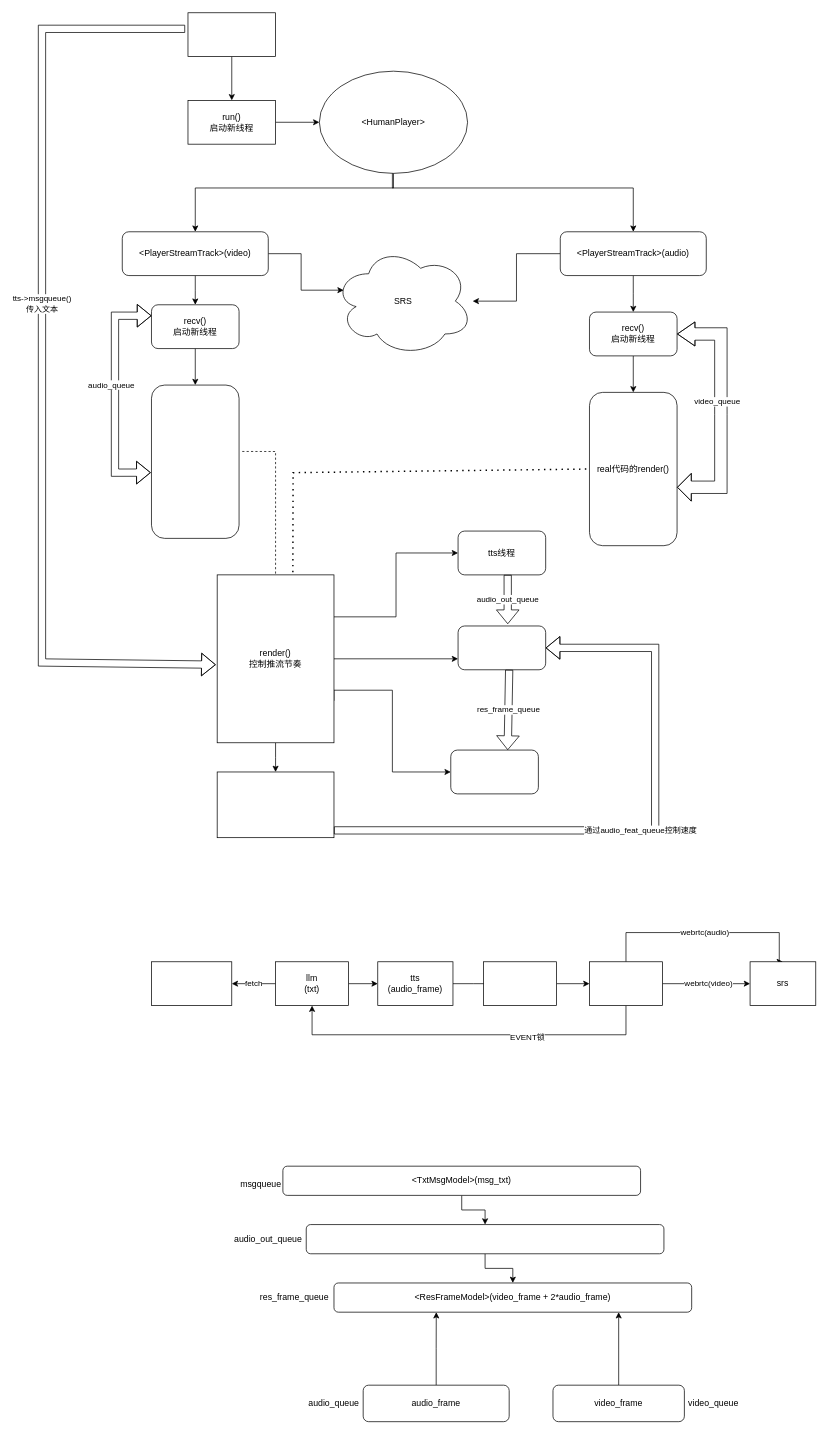
The diagram is 829 pixels wide and 1434 high, and some of its shapes have lost their labels. The shapes that lost their labels are listed below. From the top down, each one's centre as x and y in pixels, then its label:
the point at 231,34: main()
the point at 195,461: real的render()
the point at 501,647: inference线程
the point at 494,771: process_frame线程 推到video_queue和audio_queue
the point at 275,804: asr.run_step()驱动推理线程
the point at 191,983: 服务端评论
the point at 520,983: 2lip (video_frame)
the point at 625,983: merge_frame (audio_frame + video_frame)
the point at 485,1239: <OutputAudioModel>(video_frame)
